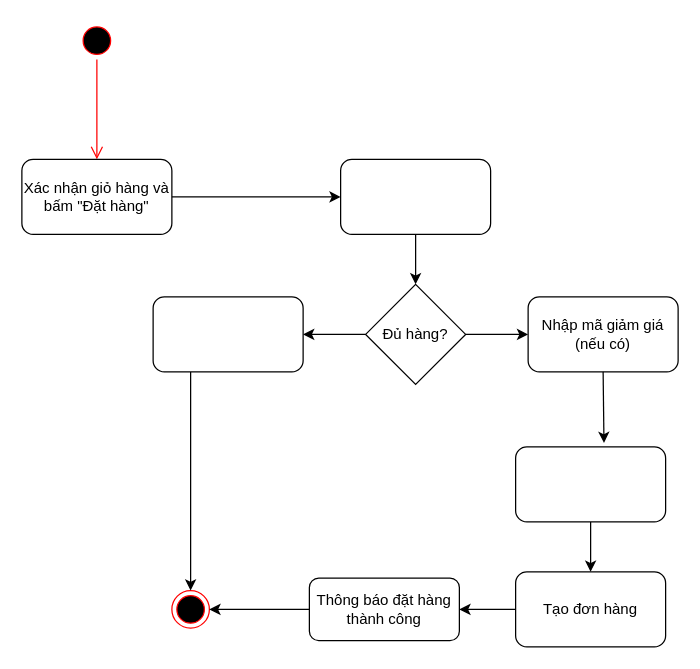
This 700x669 diagram has some shape labels left out. The shapes that lost their labels are listed below. From the top down, each one's box as (x1, y1, x2, y2) in pixels, then its label:
(339, 158, 491, 234): Kiểm tra số lượng tồn kho
(152, 296, 303, 372): Thông báo hết hàng
(514, 446, 666, 522): Xác nhận đặt hàng
